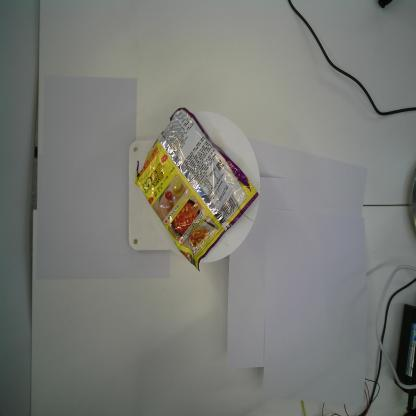Instant Noodles: (133, 106, 261, 274)
